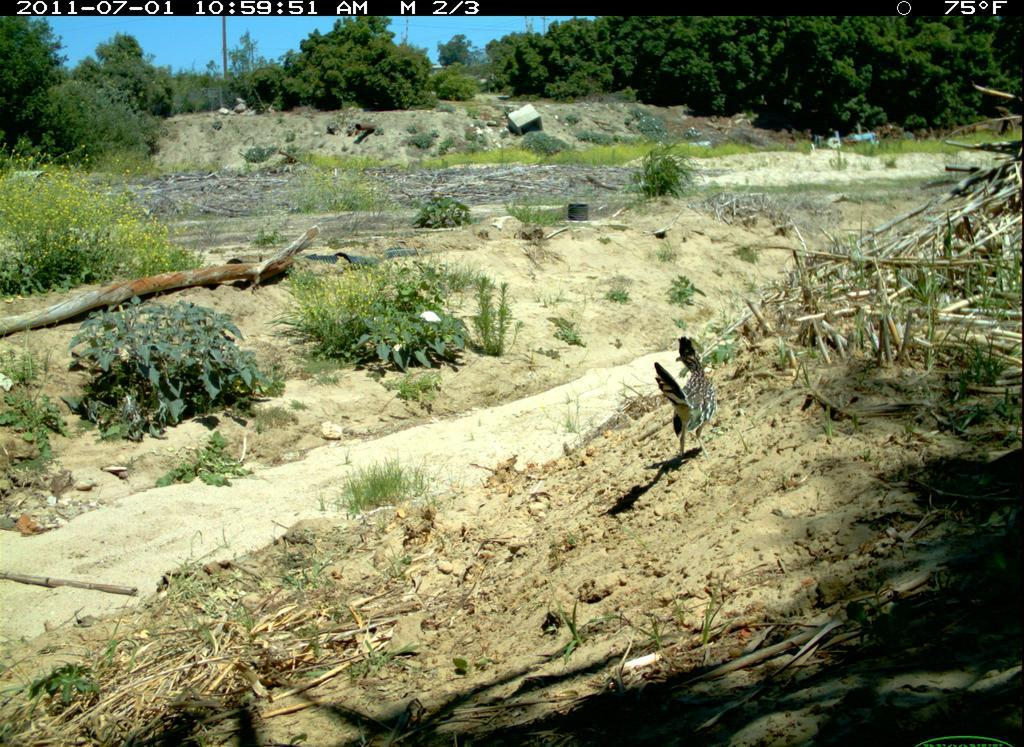bird: (649, 331, 733, 470)
